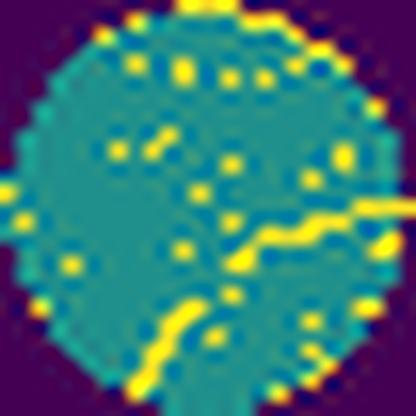Scratch: (219, 191, 416, 279), (126, 291, 212, 405)
